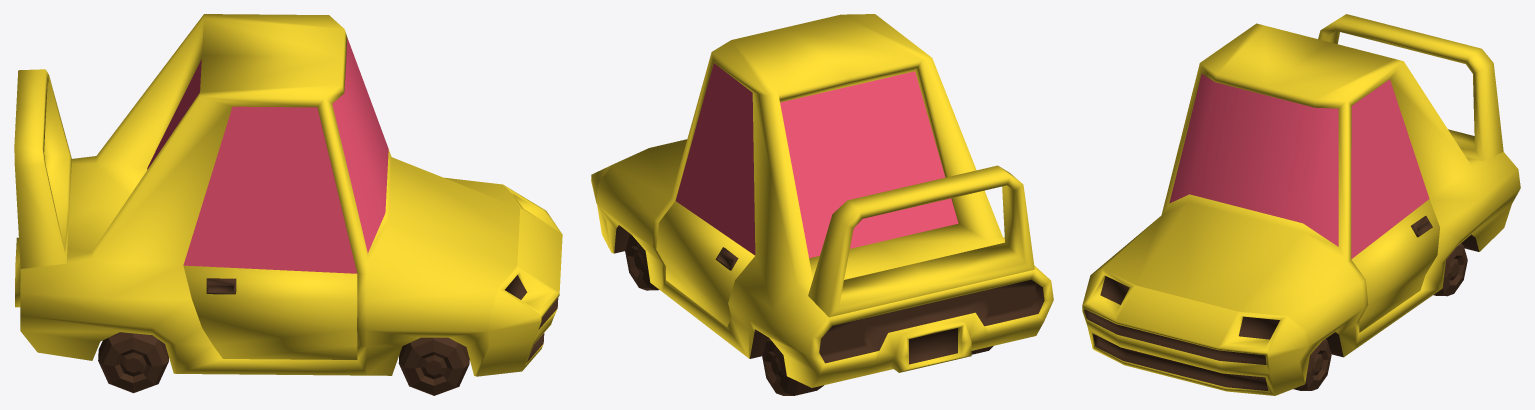
Rendered from ToyObject_136.fbx.
3 renders of one model, left to right at view 1: azimuth 30°, elevation 25°; view 2: azimuth 150°, elevation 25°; view 3: azimuth 270°, elevation 25°, orthographic. The views are drawn at different scales.
Visible parts, largest first — view 1: object-1.054; view 2: object-1.054; view 3: object-1.054.
Boxes of the visible parts, x1,y1,x2,y2 form: object-1.054: [14, 14, 562, 395]; object-1.054: [591, 14, 1053, 395]; object-1.054: [1082, 14, 1520, 395].
Size of the model in its own units: 0.1811 by 0.0985 by 0.1552.
